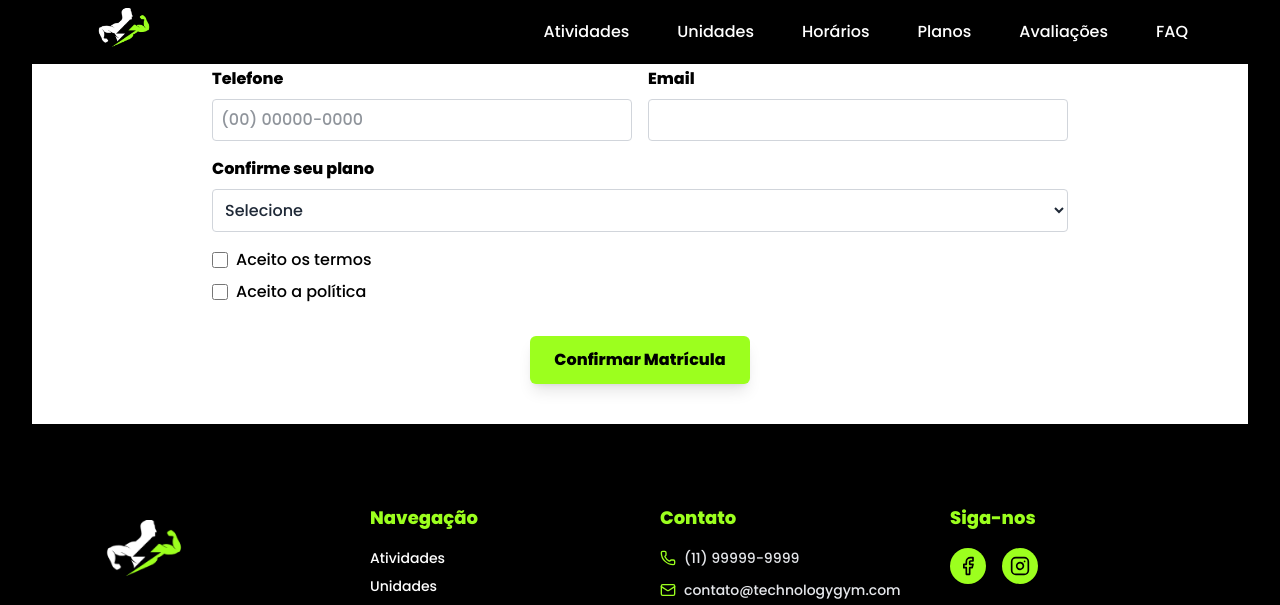
Test case: App flows integration › exibe erro de validação ao tentar enviar matrícula vazia
This screenshot has width=1280, height=605.
(page scrolled)
Click the button "Confirmar Matrícula" at x=640, y=360, box 530,336 -> 750,384
(page scrolled)
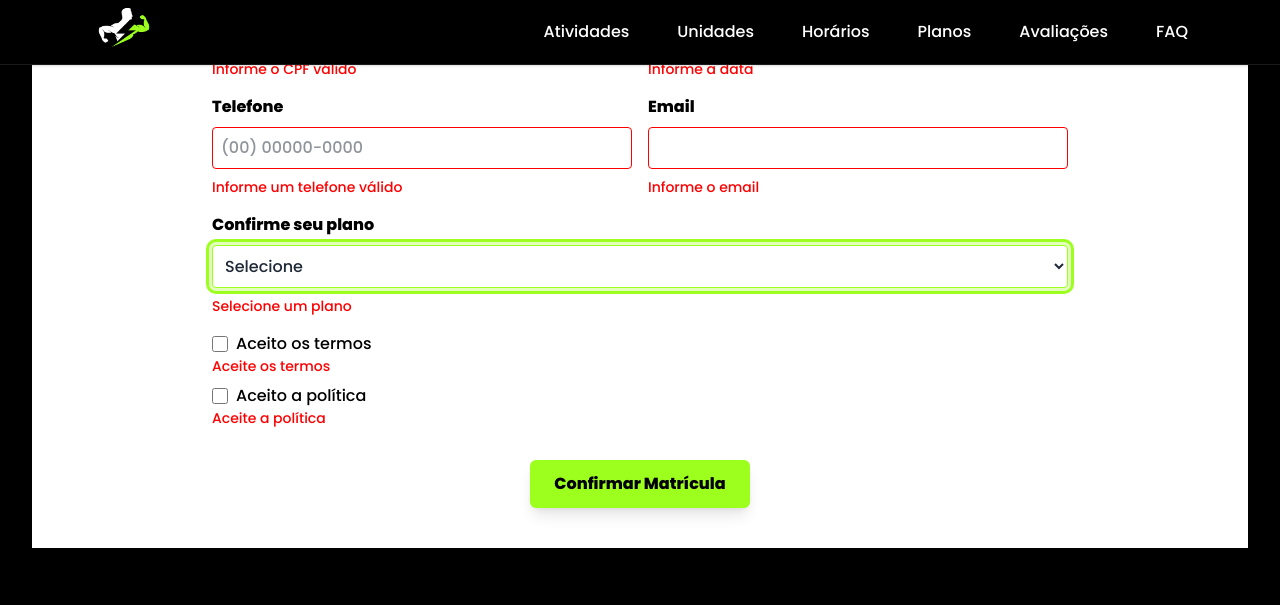
Expected: the text "Informe o CPF válido" is shown, 212,59 -> 356,79
Expected: the text "Aceite os termos" is shown, 212,356 -> 330,376
Expected: the text "Aceite a política" is shown, 212,408 -> 326,428
